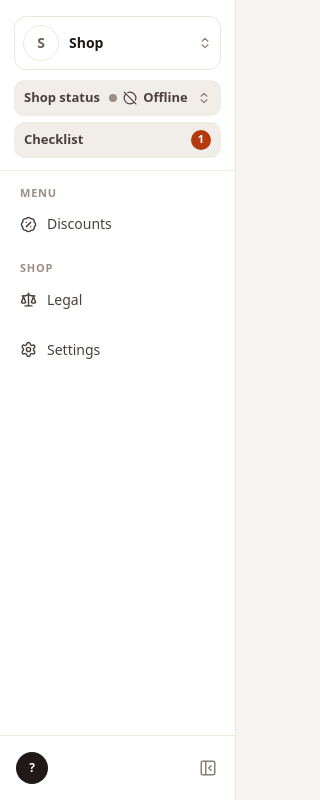
Test: Sidebar shop status menu with open checklist items › closes on Escape
Click the button "Shop status Offline": [118, 98] box x1=14 y1=80 x2=221 y2=116
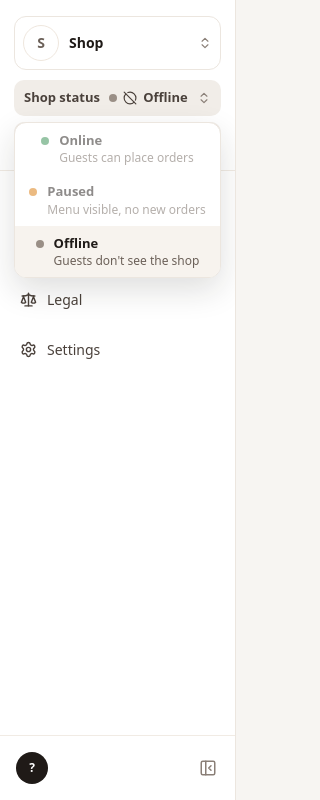
Click the option "Online Guests can place orders": [118, 148] box x1=15 y1=122 x2=220 y2=174
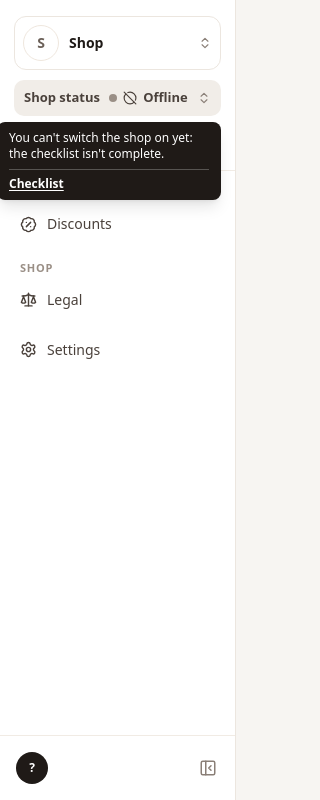
Press Escape
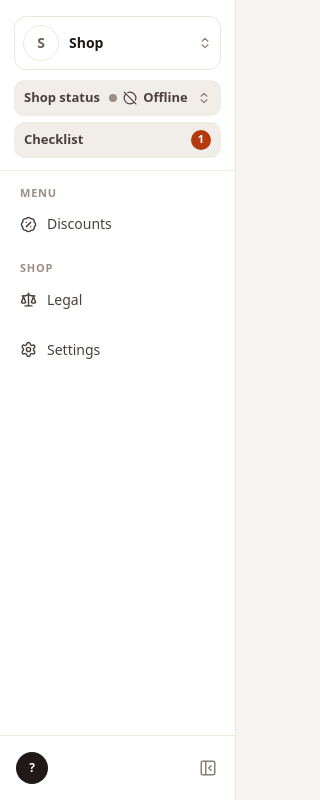
Check: the message "You can't switch the shop on yet: the checklist isn't complete. Checklist" is gone
